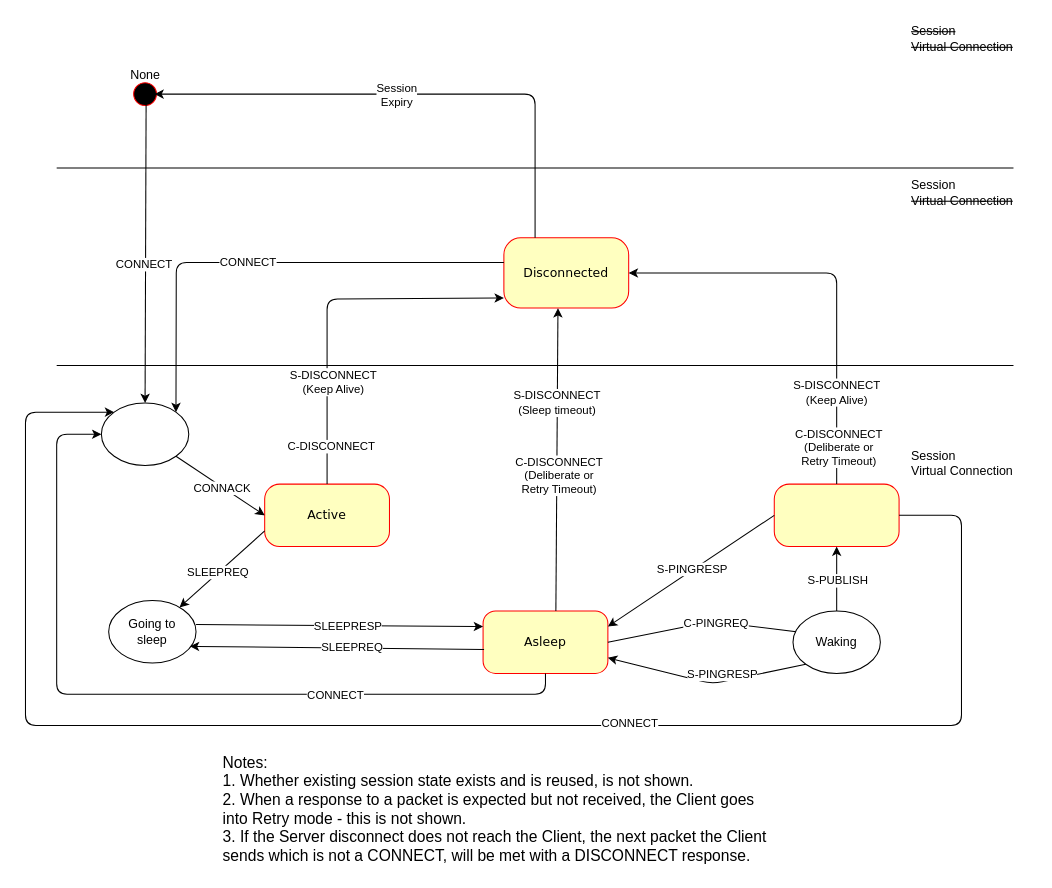
This 1052x888 diagram has some shape labels left out. Here are the shapes that lost their labels. From the top down, the centre of each, then its label:
At point 144,433: "Connecting".
At point 836,515: "Awake".
